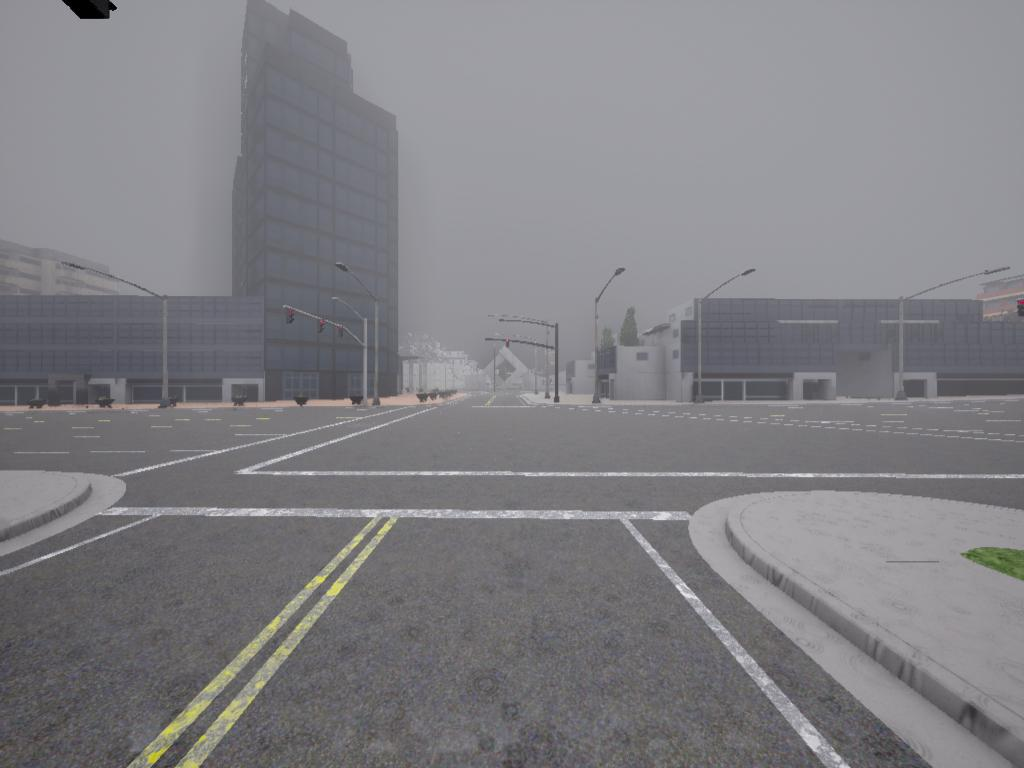traffic_light: (59, 1, 117, 18), (286, 306, 295, 326), (1016, 301, 1023, 319), (319, 320, 327, 334), (339, 326, 345, 339), (507, 340, 510, 350)
